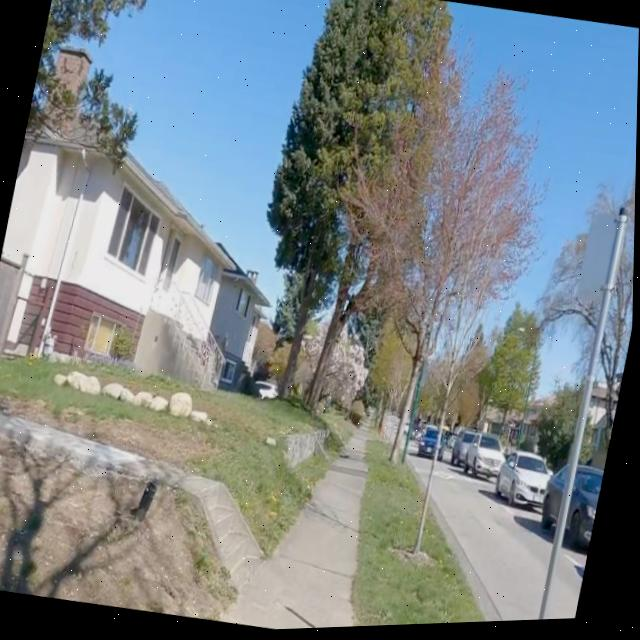Automobile: (565, 470, 606, 553), (498, 454, 553, 510), (467, 437, 506, 481), (543, 470, 569, 533), (452, 432, 482, 473), (420, 429, 440, 461)
Obstacle: (0, 359, 329, 556), (0, 435, 237, 623), (540, 211, 629, 624), (354, 446, 488, 629), (391, 352, 420, 464), (286, 433, 326, 469)
Road: (432, 454, 553, 626), (433, 466, 552, 625), (552, 554, 589, 624), (554, 555, 590, 624), (409, 458, 432, 485)
Sidewalk: (0, 411, 264, 588), (225, 425, 370, 632)
